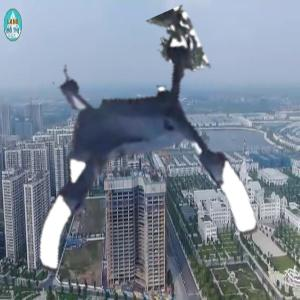drone: (4, 43, 245, 284)
